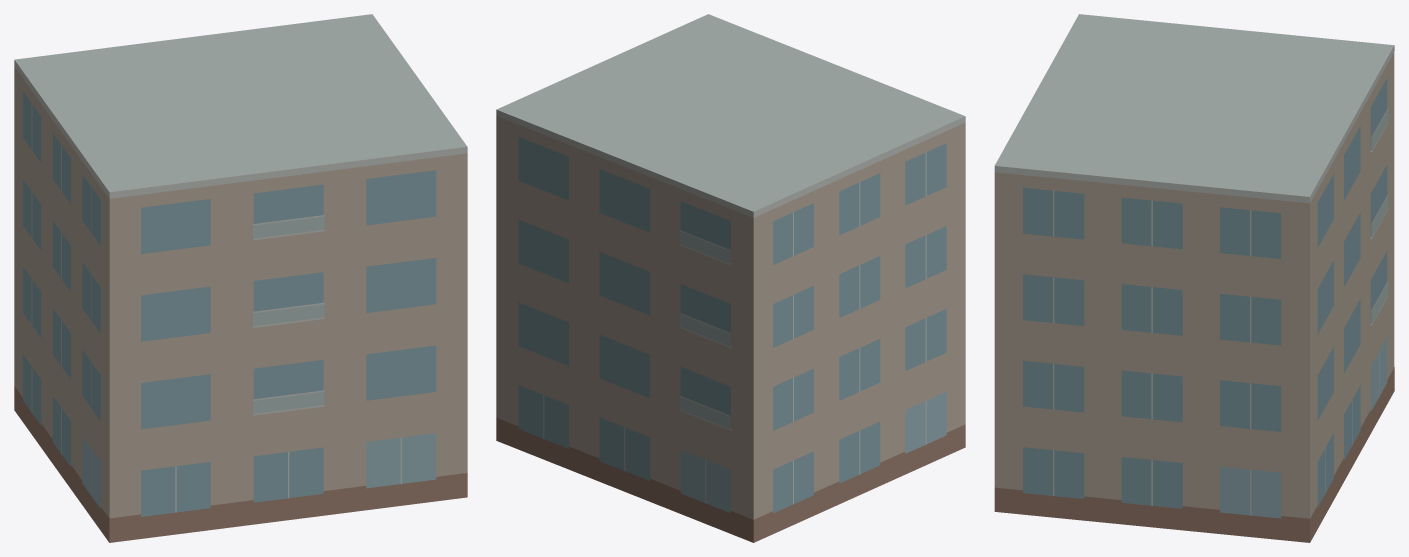
Rendered from survey-upis-33039897.glb.
3 views of the same model, side by side, from view 1: azimuth 30°, elevation 25°; view 2: azimuth 150°, elevation 25°; view 3: azimuth 270°, elevation 25° (orthographic). The views are drawn at different scales.
Visible parts, largest first — view 1: survey-upis-33039897.tmp; view 2: survey-upis-33039897.tmp; view 3: survey-upis-33039897.tmp.
Part boxes in pixels (left/top/right/bottom): survey-upis-33039897.tmp: left=14, top=14, right=467, bottom=542; survey-upis-33039897.tmp: left=496, top=14, right=965, bottom=542; survey-upis-33039897.tmp: left=994, top=14, right=1394, bottom=542.
Size of the model in its own units: 14.87 by 13.1 by 13.74.
